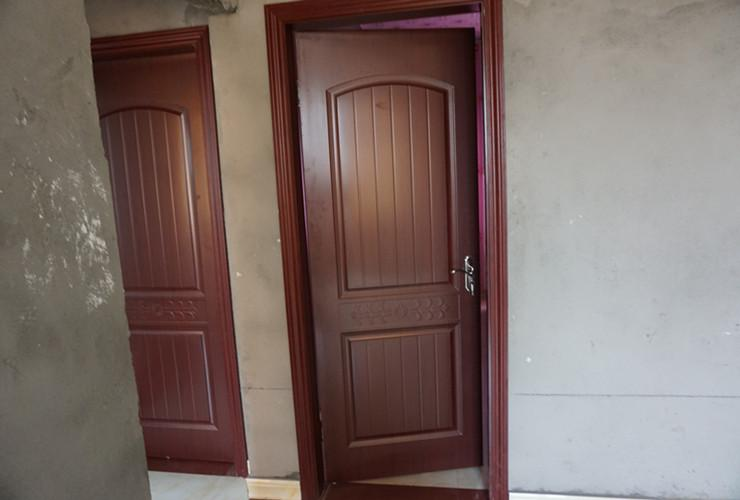door: (295, 26, 481, 467)
